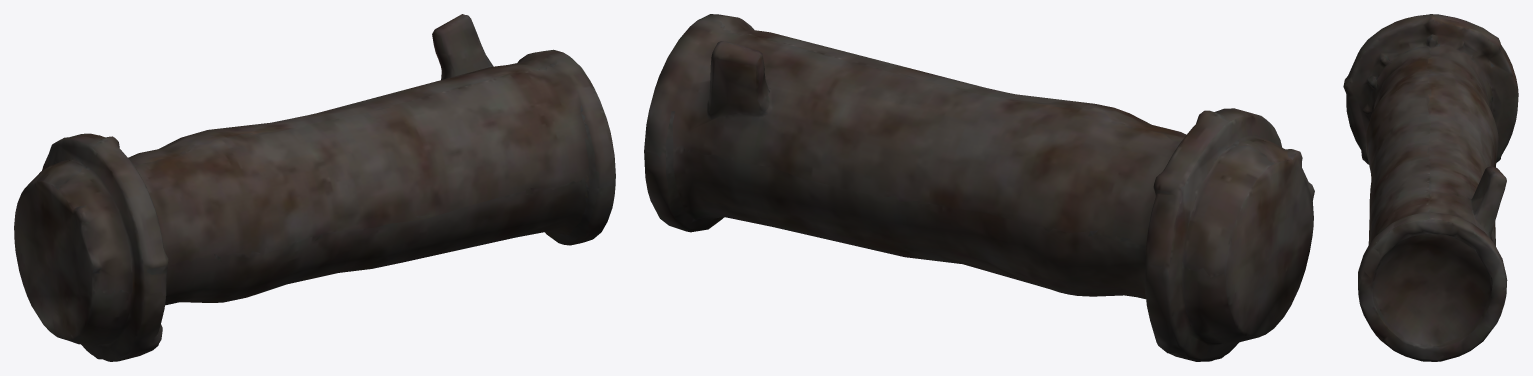
The model's file is chipped-iron-drainpipe-v001.glb.
The picture shows the model from 3 angles, left to right: view 1: azimuth 30°, elevation 25°; view 2: azimuth 150°, elevation 25°; view 3: azimuth 270°, elevation 25°; orthographic projection. The views are drawn at different scales.
Parts seen in each view (by area): view 1: chipped-iron-drainpipe; view 2: chipped-iron-drainpipe; view 3: chipped-iron-drainpipe.
Boxes of the visible parts, x1=… form: chipped-iron-drainpipe: x1=14, y1=14, x2=615, y2=361; chipped-iron-drainpipe: x1=644, y1=14, x2=1314, y2=361; chipped-iron-drainpipe: x1=1343, y1=14, x2=1518, y2=361.
Size of the model in its own units: 6.63 by 2.7 by 2.45.
1 material, 1 textured.
